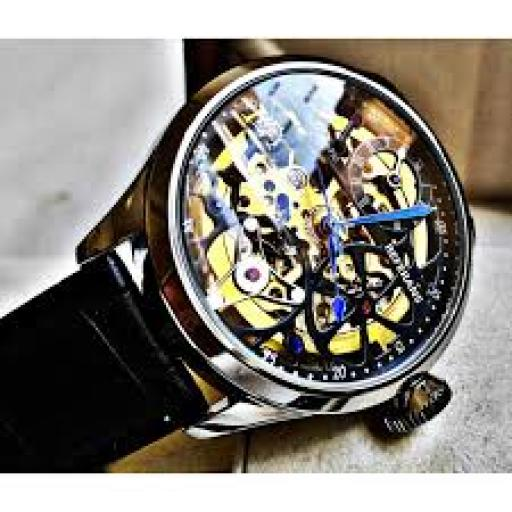KolSaati: (36, 47, 512, 489)
